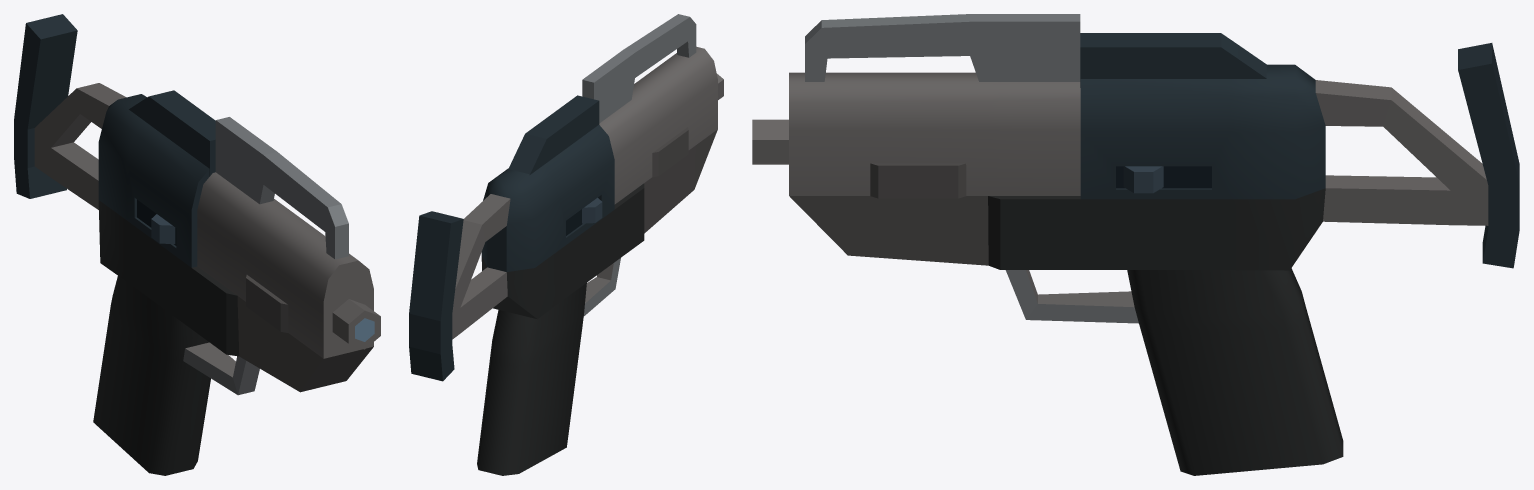
The model's file is smg.glb.
The picture shows the model from 3 angles, left to right: view 1: azimuth 30°, elevation 25°; view 2: azimuth 150°, elevation 25°; view 3: azimuth 270°, elevation 25°; orthographic projection. The views are drawn at different scales.
Visible parts, largest first — view 1: smg, slide; view 2: smg, slide; view 3: smg, slide.
Boxes of the visible parts, x1,y1,x2,y2 form: smg: (14,14,380,475); slide: (137,199,176,245); smg: (409,14,723,475); slide: (566,196,602,235); smg: (752,14,1519,475); slide: (1116,166,1211,193).
Size of the model in its own units: 0.0546 by 0.2521 by 0.3936.
Materials: 1 (1 with a texture image).
